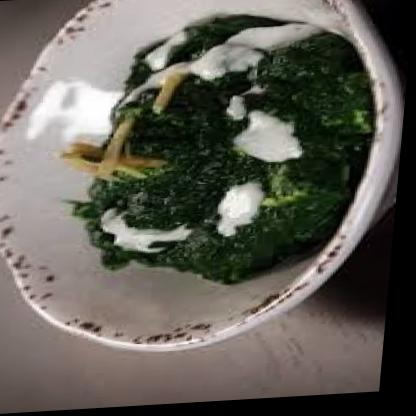palak_paneer: (57, 10, 389, 296)
